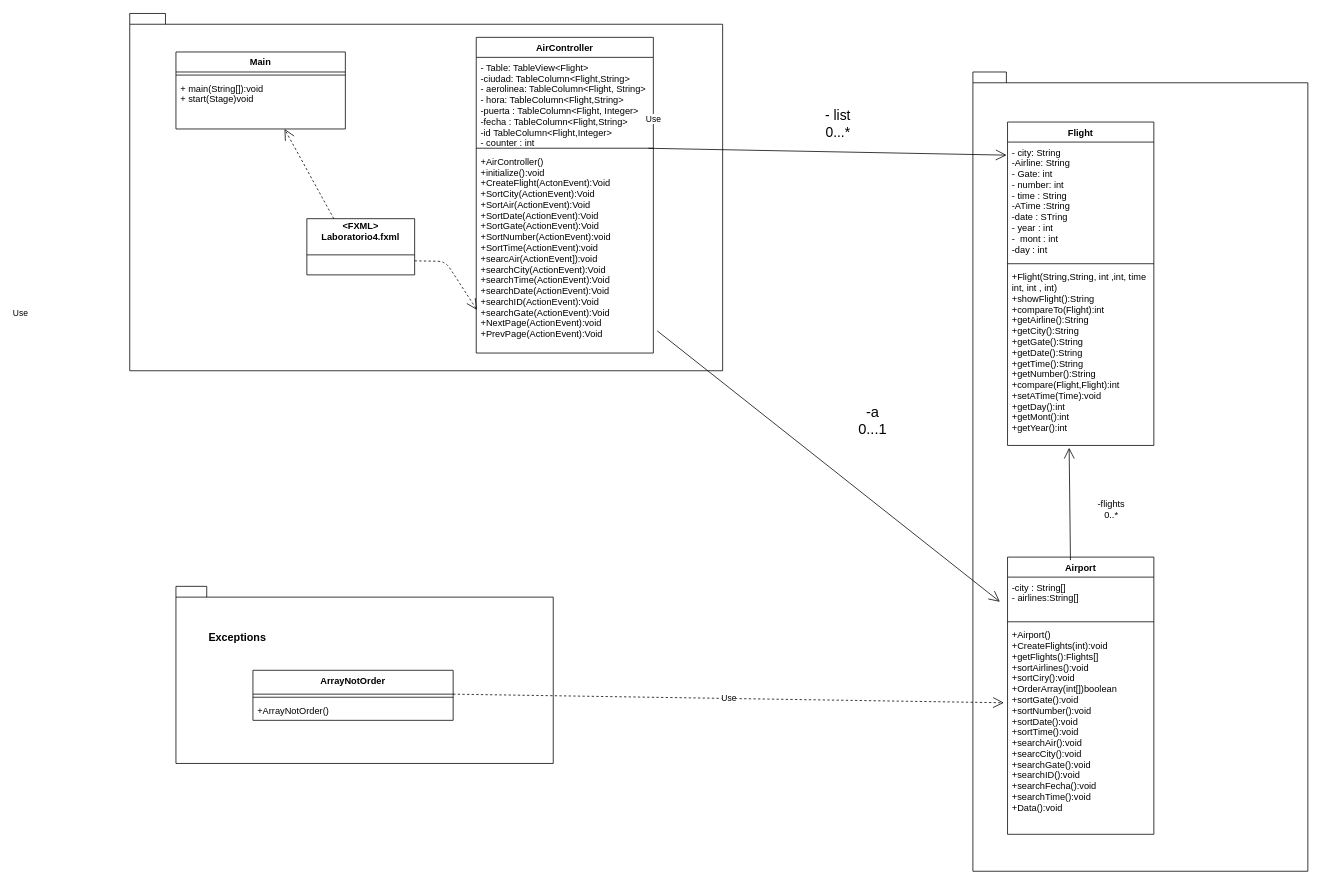
Some shapes in this 1322 by 885 pixel diagram are drawn without their labels. The box of each missing label's shape, as (x1, y1, x2, y2) in pixels:
Model: (129, 13, 723, 371)
UaserInterface: (972, 71, 1308, 871)
